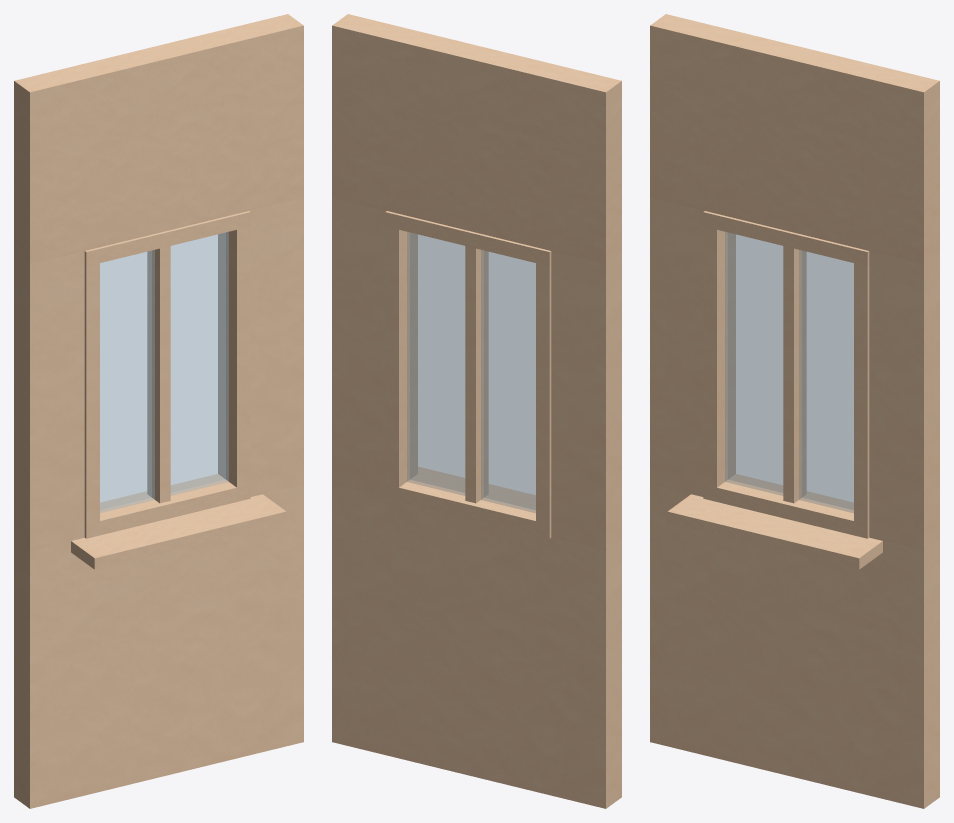
Rendered from Wall_Window.fbx.
3 renders of one model, left to right at view 1: azimuth 30°, elevation 25°; view 2: azimuth 150°, elevation 25°; view 3: azimuth 330°, elevation 25°, orthographic.
Visible parts, largest first — view 1: Wall_Window; view 2: Wall_Window; view 3: Wall_Window.
Part boxes in pixels (x1,y1,x2,y2): Wall_Window: (14,14,303,808); Wall_Window: (332,14,621,808); Wall_Window: (650,14,939,808).
Size of the model in its own units: 1 by 2.5 by 0.26.
2 materials, 1 textured.
